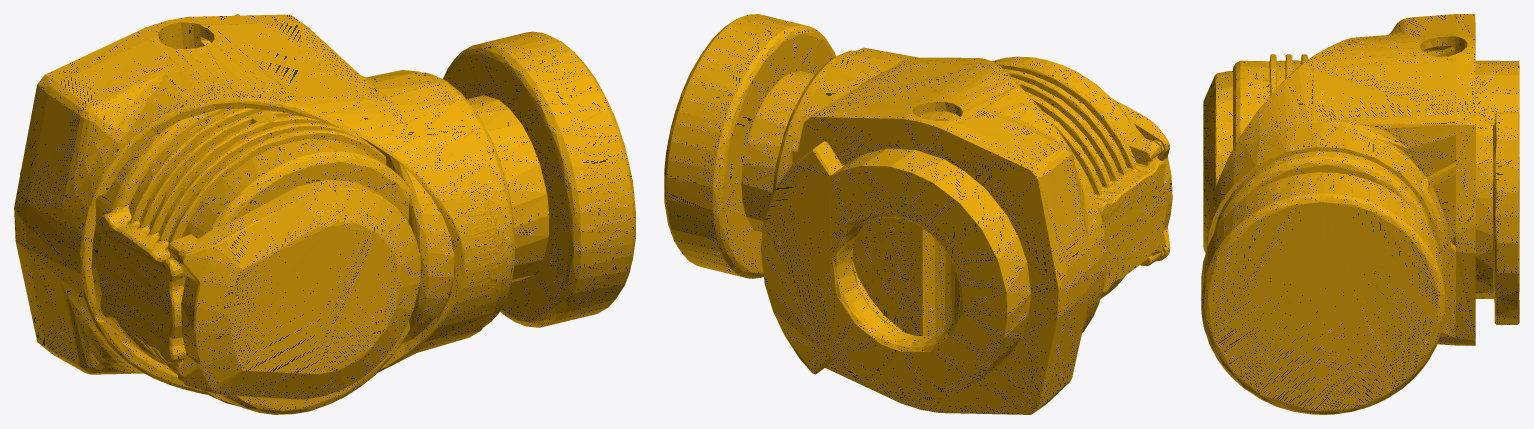
File: rear_left_hip.obj
3 renders of one model, left to right at view 1: azimuth 30°, elevation 25°; view 2: azimuth 150°, elevation 25°; view 3: azimuth 270°, elevation 25°, orthographic. The views are drawn at different scales.
Parts seen in each view (by area): view 1: rear_left_hip; view 2: rear_left_hip; view 3: rear_left_hip.
Part boxes in pixels (box(x1,y1,x2,y2)): rear_left_hip: box(14, 14, 635, 414); rear_left_hip: box(664, 14, 1172, 414); rear_left_hip: box(1201, 14, 1519, 414).
Size of the model in its own units: 0.1417 by 0.0941 by 0.1001.
